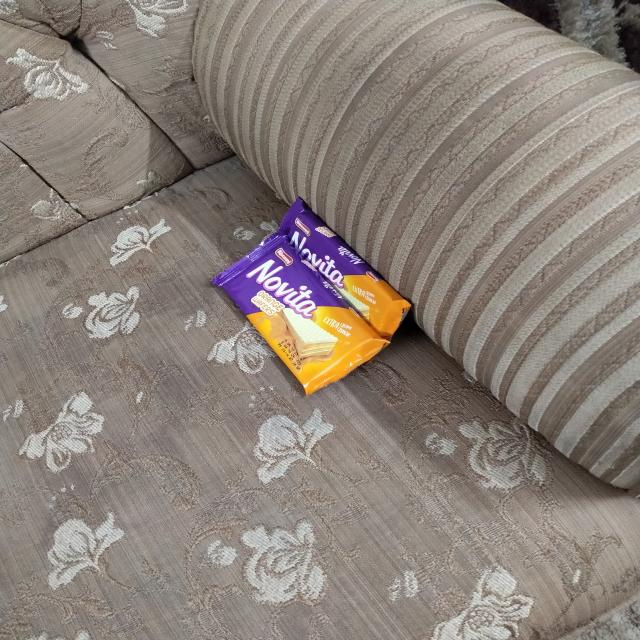Plastic: (203, 256, 319, 398), (293, 195, 415, 286)
